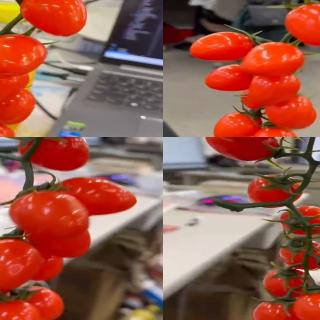tomato: (8, 190, 90, 240), (49, 176, 138, 216), (15, 137, 90, 173), (19, 0, 87, 37), (24, 223, 92, 260), (240, 42, 304, 79), (0, 236, 43, 291), (0, 285, 65, 320), (188, 31, 256, 64), (242, 70, 301, 108), (205, 137, 282, 163), (0, 32, 48, 73), (266, 94, 318, 130), (248, 175, 303, 208), (262, 268, 307, 302), (203, 63, 254, 92), (285, 2, 320, 44), (279, 238, 320, 271), (211, 112, 263, 137), (0, 87, 35, 124), (280, 205, 320, 237), (251, 299, 304, 320), (0, 64, 30, 101), (0, 297, 43, 320), (291, 291, 320, 320), (252, 125, 300, 137)
